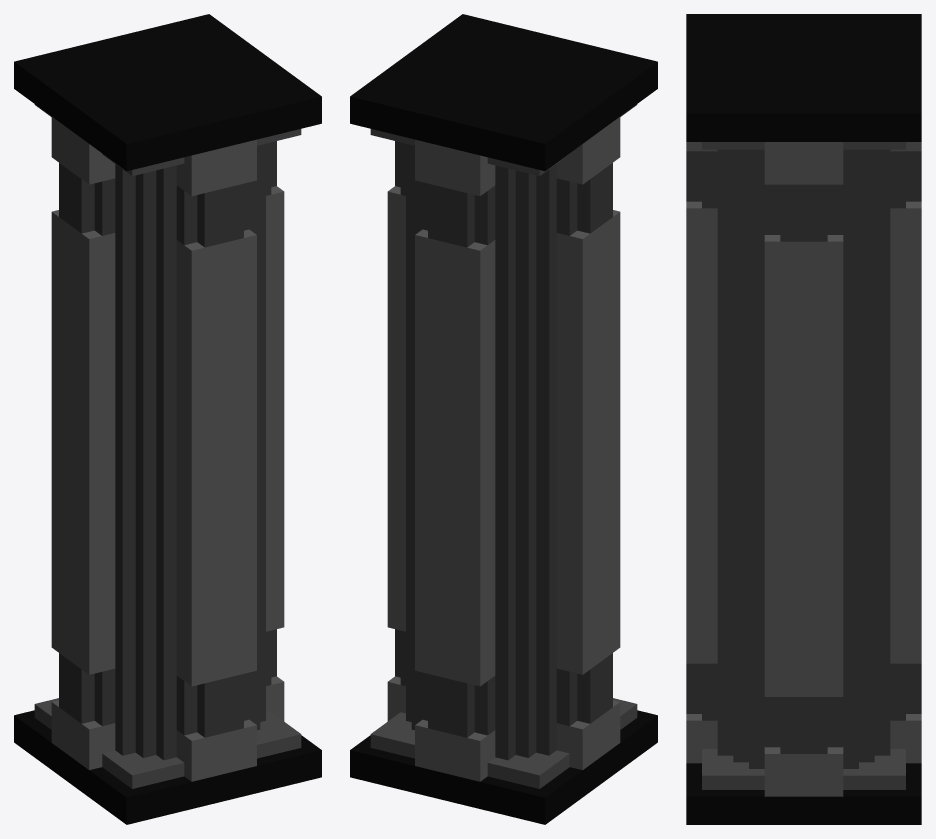
File: Corner-Stone-Model-04.fbx
3 views of the same model, side by side, from view 1: azimuth 30°, elevation 25°; view 2: azimuth 150°, elevation 25°; view 3: azimuth 270°, elevation 25° (orthographic). The views are drawn at different scales.
Parts seen in each view (by area): view 1: Corner-Stone-Model-04; view 2: Corner-Stone-Model-04; view 3: Corner-Stone-Model-04.
Part boxes in pixels (left/top/right/bottom): Corner-Stone-Model-04: left=14, top=14, right=321, bottom=824; Corner-Stone-Model-04: left=350, top=14, right=657, bottom=824; Corner-Stone-Model-04: left=686, top=14, right=921, bottom=824.
Bounding box in the file's own units: 15 × 50 × 15.
1 material, 1 textured.
